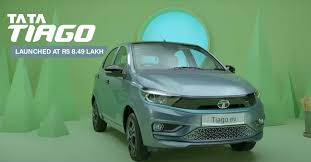Tiago: (87, 38, 267, 162)
